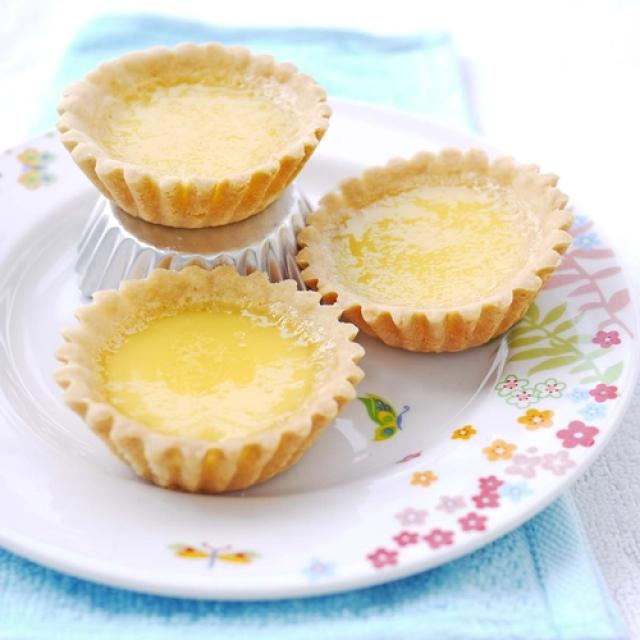炸货点心: (8, 23, 635, 616)
蛋糕甜品: (8, 23, 635, 616)
